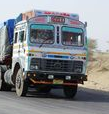truck: (1, 7, 90, 101)
